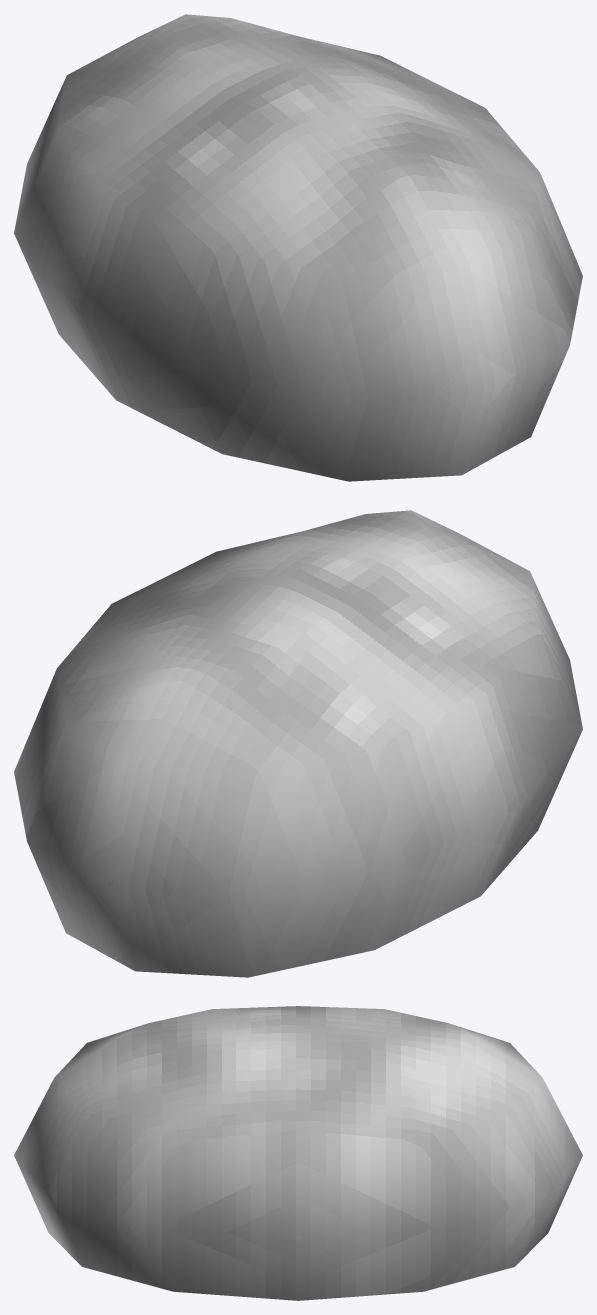
The model's file is bread.obj.
3 renders of one model, top to bottom at view 1: azimuth 30°, elevation 25°; view 2: azimuth 150°, elevation 25°; view 3: azimuth 270°, elevation 25°, orthographic. The views are drawn at different scales.
Parts seen in each view (by area): view 1: Cylinder02; view 2: Cylinder02; view 3: Cylinder02.
Part boxes in pixels (bbox=[...]): Cylinder02: bbox=[14, 14, 582, 481]; Cylinder02: bbox=[14, 510, 582, 977]; Cylinder02: bbox=[14, 1006, 582, 1300].
Size of the model in its own units: 14.78 by 9.01 by 21.5.
